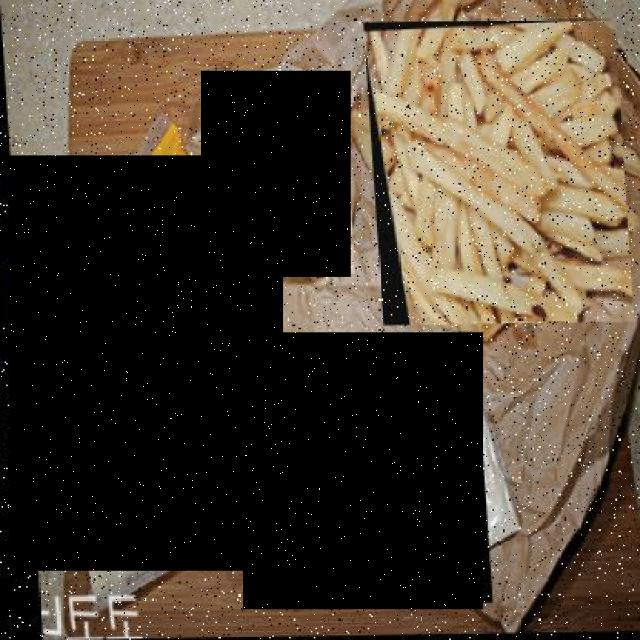Cheese: (9, 155, 282, 571), (242, 333, 483, 609)
Onion: (200, 71, 351, 278)
